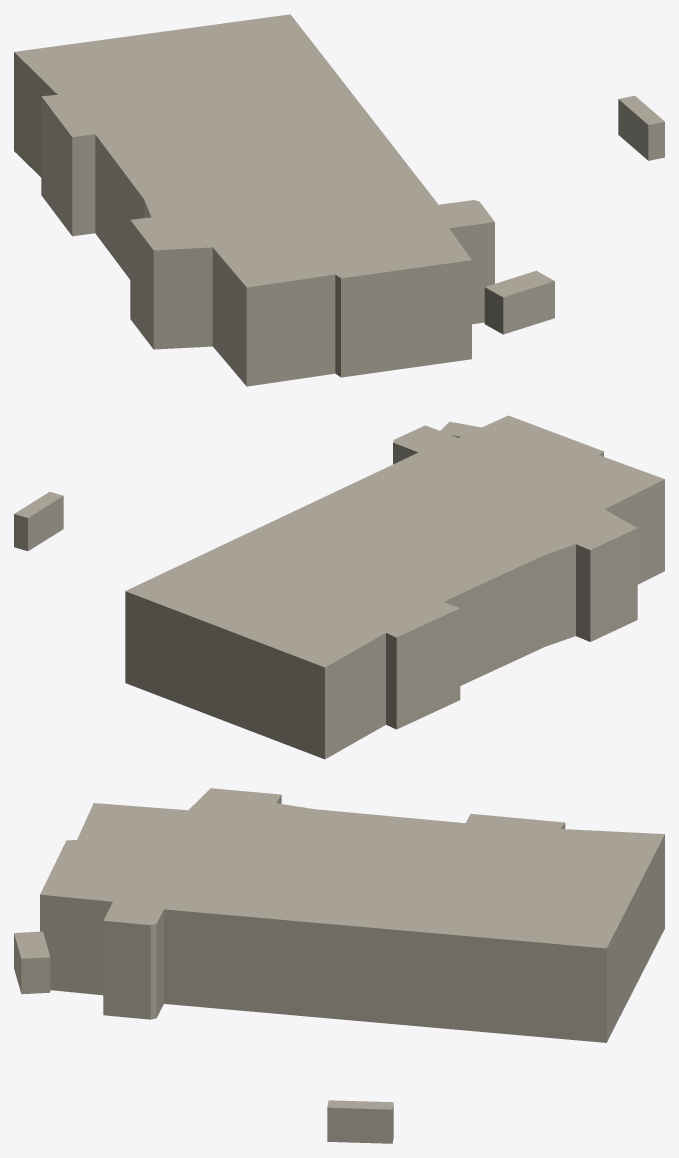
Rendered from senglea_57_31_collision.glb.
3 views of the same model, one above another, from view 1: azimuth 30°, elevation 25°; view 2: azimuth 150°, elevation 25°; view 3: azimuth 270°, elevation 25° (orthographic). The views are drawn at different scales.
Visible parts, largest first — view 1: geometry_0; view 2: geometry_0; view 3: geometry_0.
Boxes of the visible parts, x1,y1,x2,y2 form: geometry_0: (14, 14, 664, 386); geometry_0: (14, 415, 664, 759); geometry_0: (14, 788, 664, 1143).
Size of the model in its own units: 200 by 32.76 by 205.
